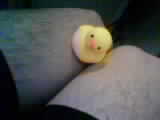duck: (70, 20, 108, 69)
